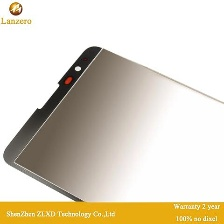phone: (0, 42, 224, 223)
